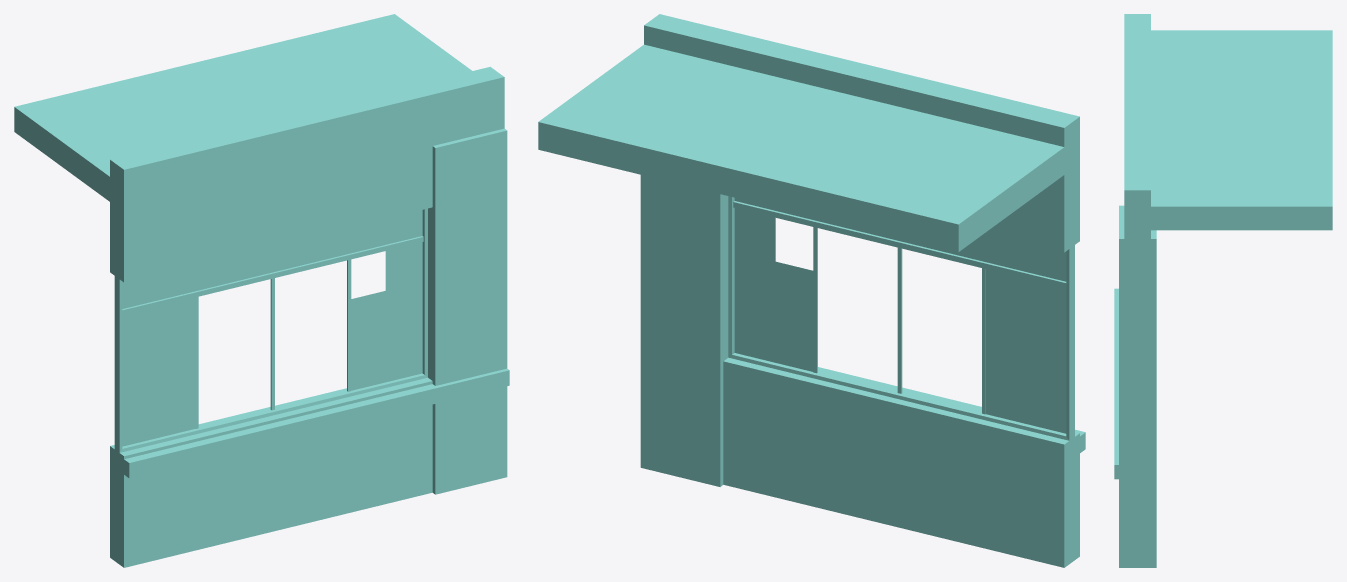
Rendered from DinerWallWindow1_Collision.fbx.
3 views of the same model, side by side, from view 1: azimuth 30°, elevation 25°; view 2: azimuth 150°, elevation 25°; view 3: azimuth 270°, elevation 25° (orthographic). The views are drawn at different scales.
Visible parts, largest first — view 1: DinerWallWindow1_Collision; view 2: DinerWallWindow1_Collision; view 3: DinerWallWindow1_Collision.
Boxes of the visible parts, <box> form: DinerWallWindow1_Collision: <box>14,14,509,567</box>; DinerWallWindow1_Collision: <box>538,14,1085,567</box>; DinerWallWindow1_Collision: <box>1114,14,1332,567</box>.
Bounding box in the file's own units: 3.52 × 3.52 × 1.84.
